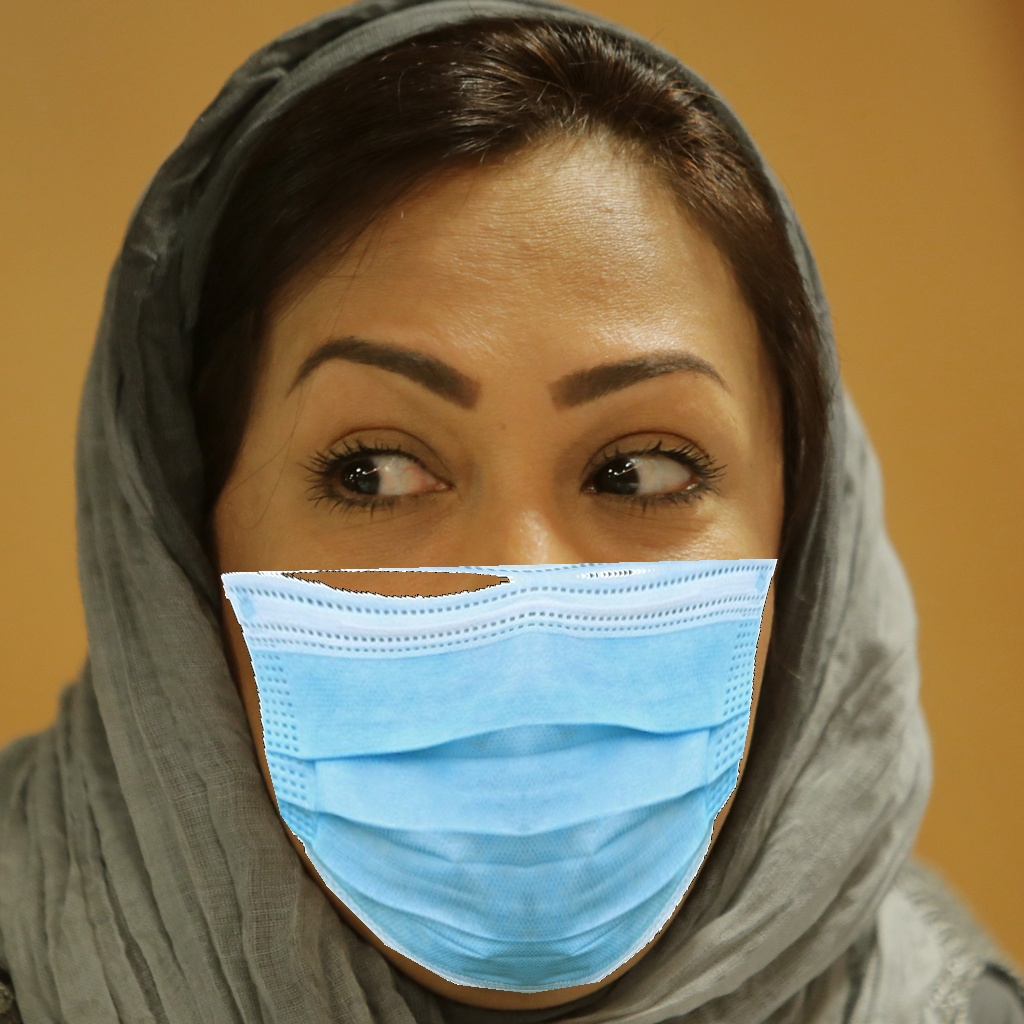Mask: (217, 330, 773, 996)
